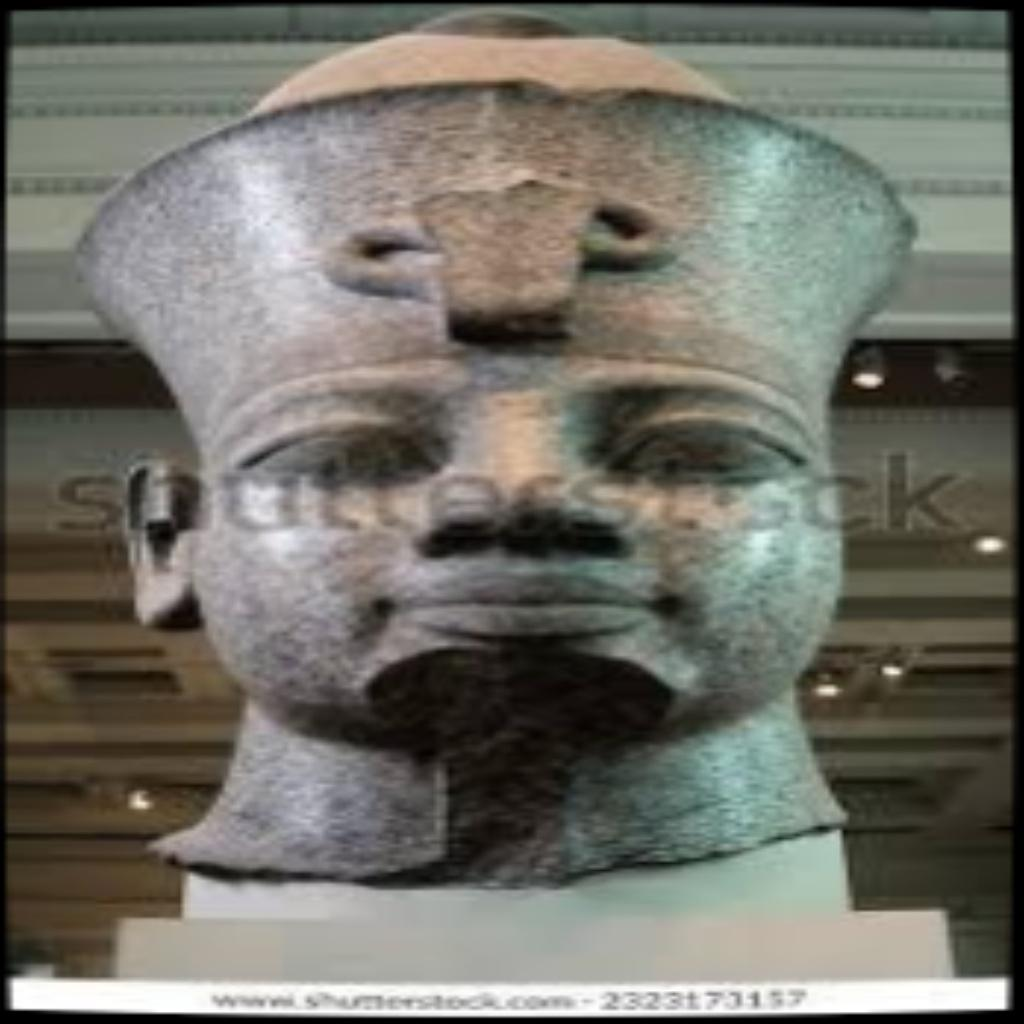Head Statue of Amenhotep iii: (65, 7, 924, 890)
